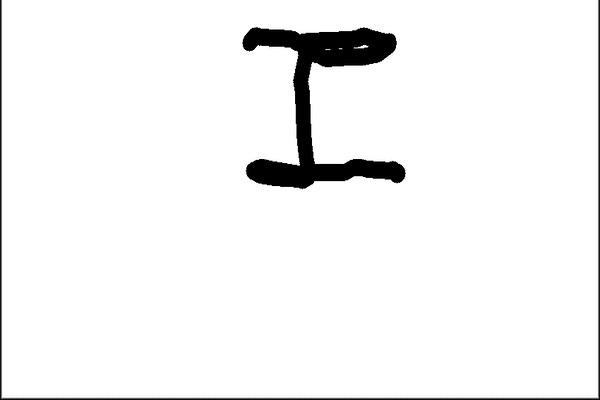i: (236, 11, 425, 197)
